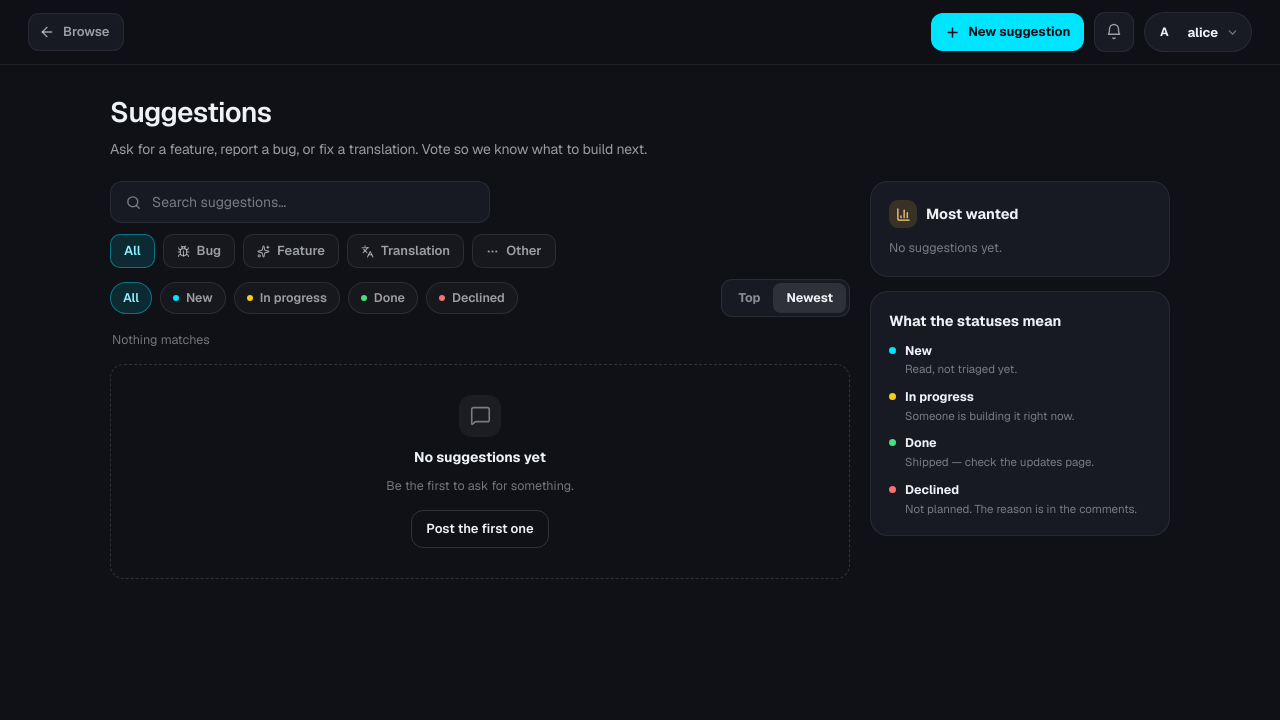
Test: FeedbackScreen › blames the filters when a filtered board comes back empty
This screenshot has width=1280, height=720.
Click the button "Feature": click(291, 251) [243,234,339,268]
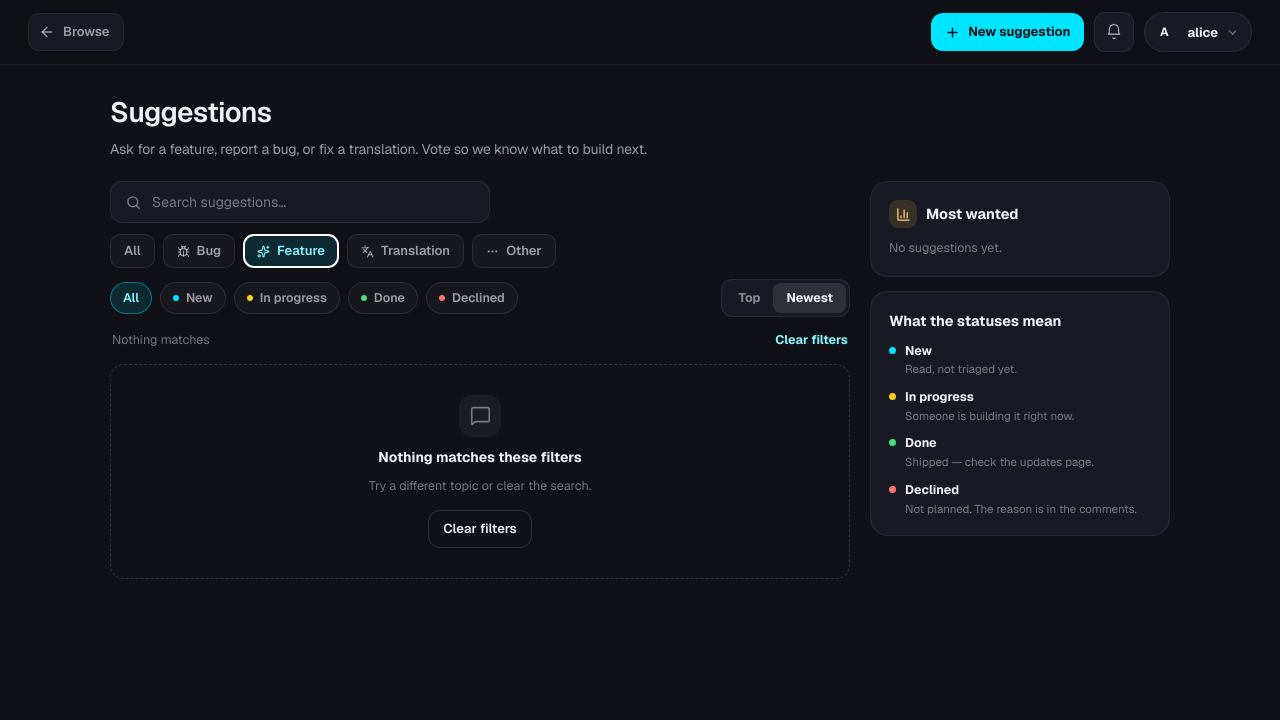
expect the text "Nothing matches these filters" is shown: met, box [378,447,582,467]
